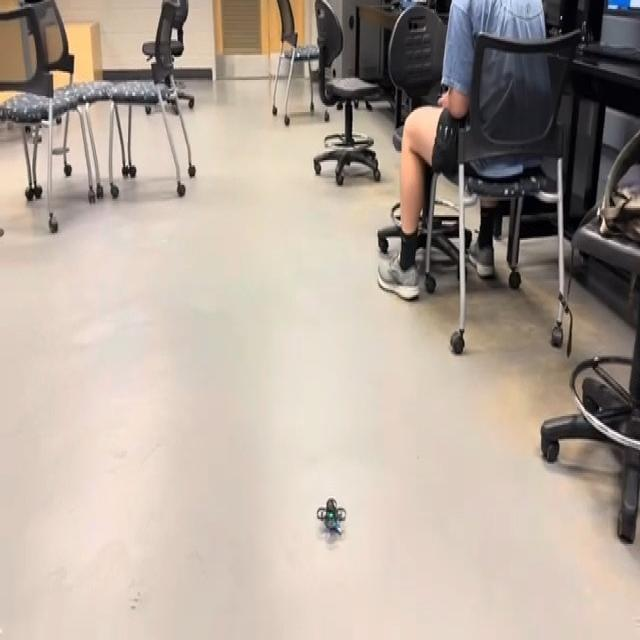drone: (302, 476, 364, 554)
